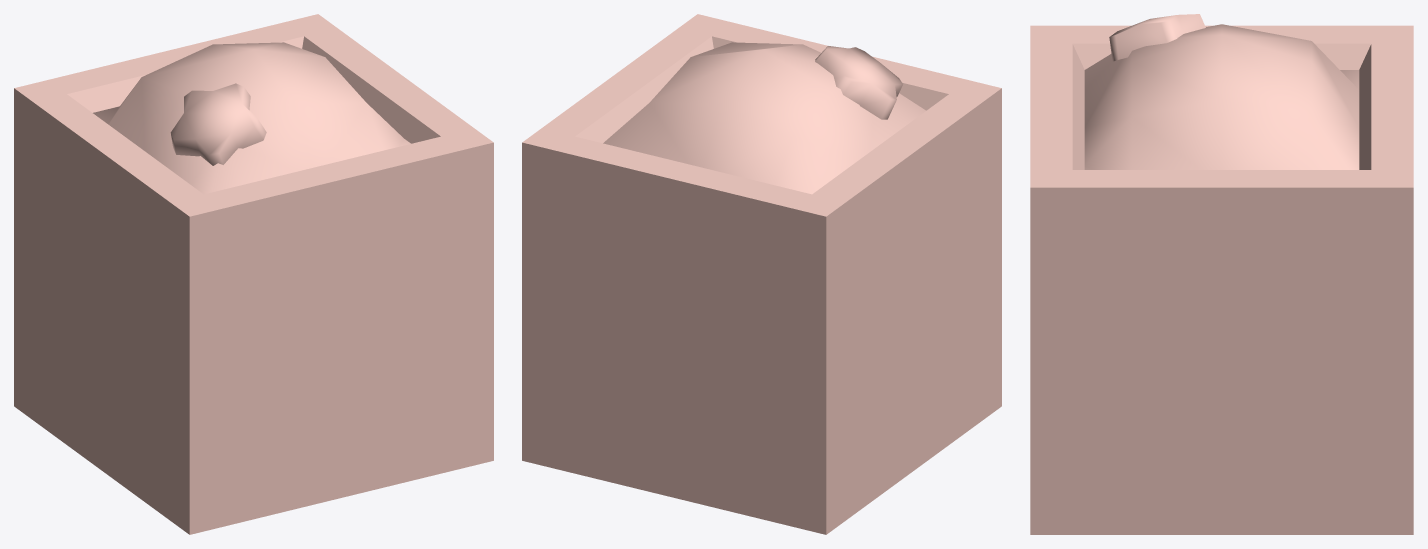
Rendered from sand_box.glb.
The picture shows the model from 3 angles, left to right: view 1: azimuth 30°, elevation 25°; view 2: azimuth 150°, elevation 25°; view 3: azimuth 270°, elevation 25°; orthographic projection. The views are drawn at different scales.
Visible parts, largest first — view 1: sand_box; view 2: sand_box; view 3: sand_box.
Part boxes in pixels (x1=…): sand_box: x1=14, y1=14, x2=493, y2=534; sand_box: x1=522, y1=14, x2=1001, y2=534; sand_box: x1=1030, y1=14, x2=1413, y2=534.
Size of the model in its own units: 0.9 by 1.09 by 0.9.
